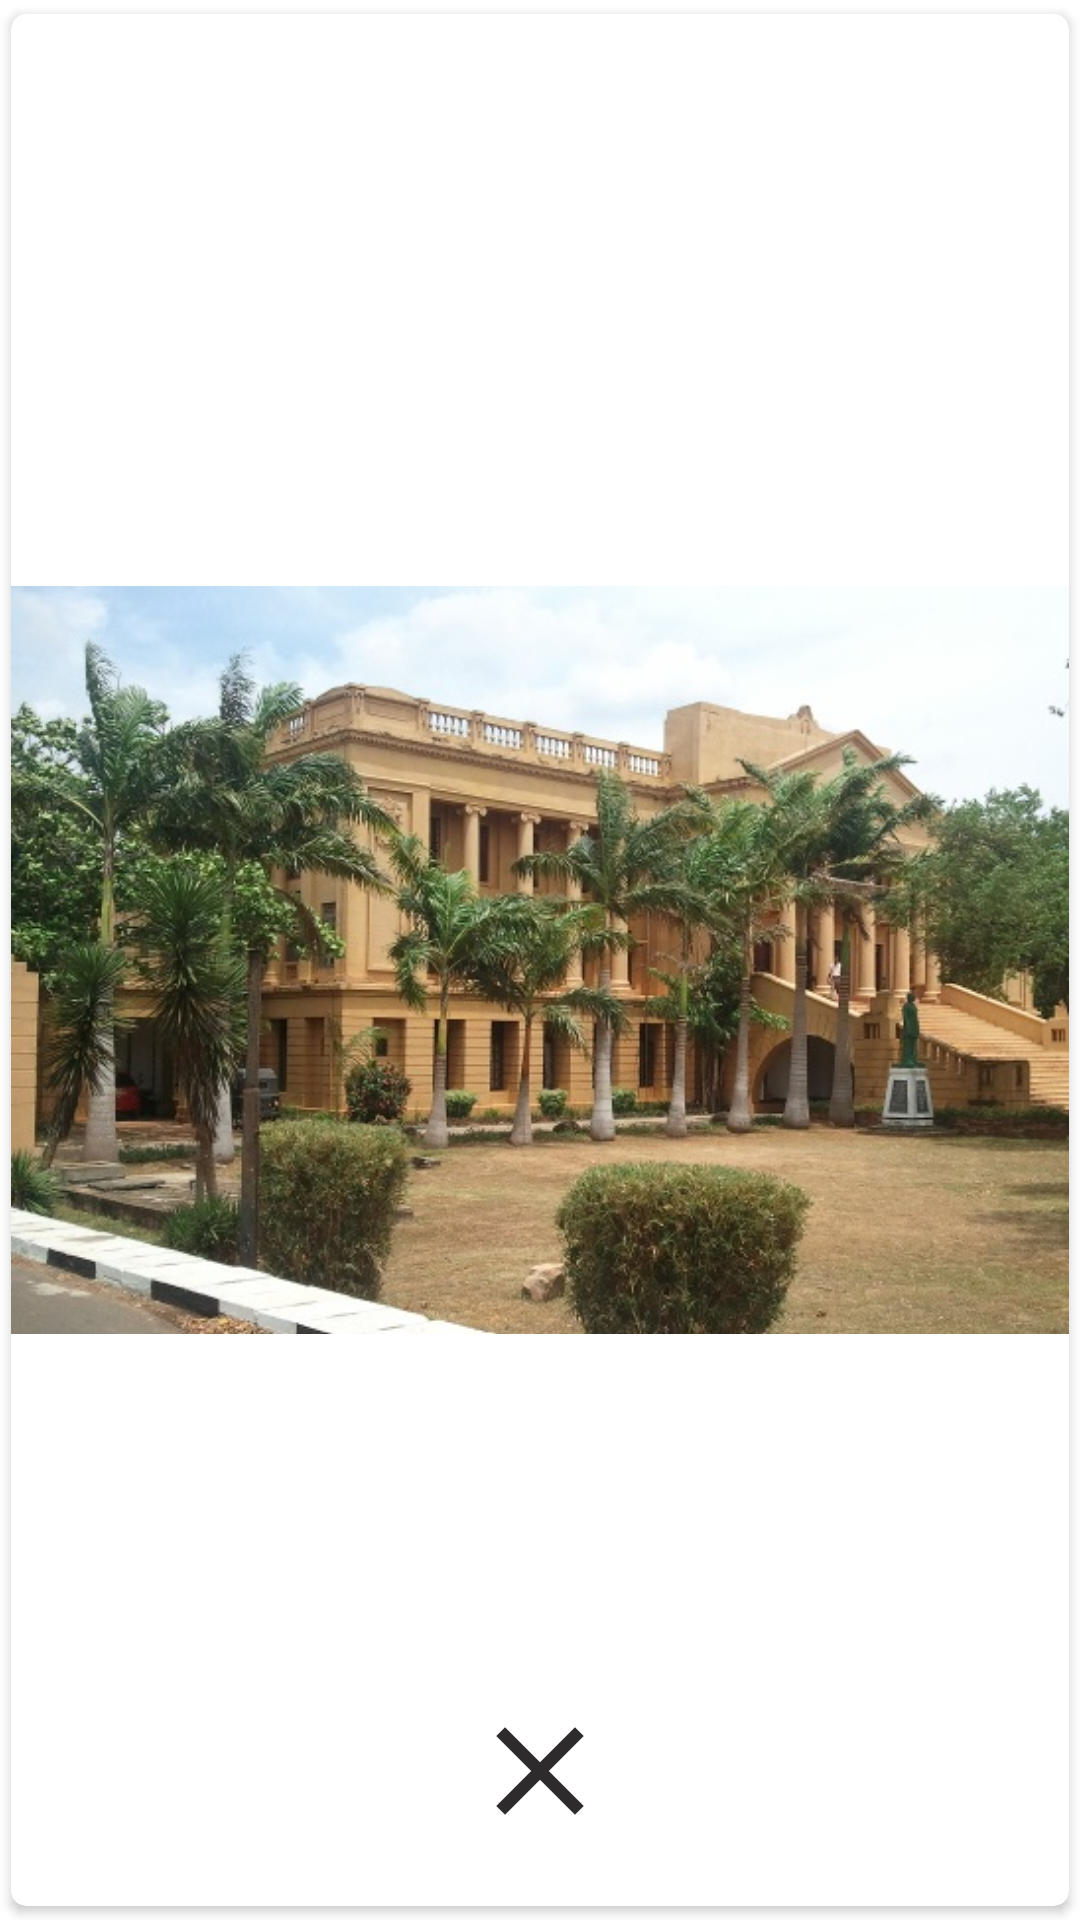

Screen size 1080*1920. Icon name, then its center in pixels as [x,y]:
close: [540,1771]
